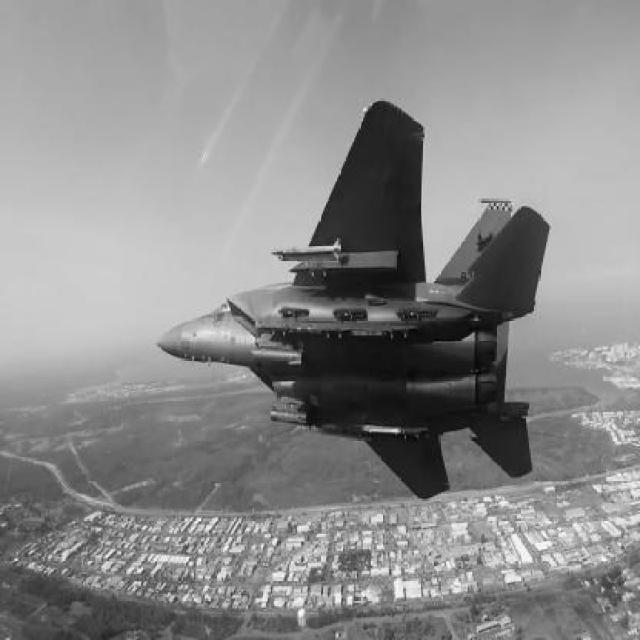Airplane: (155, 97, 553, 502)
